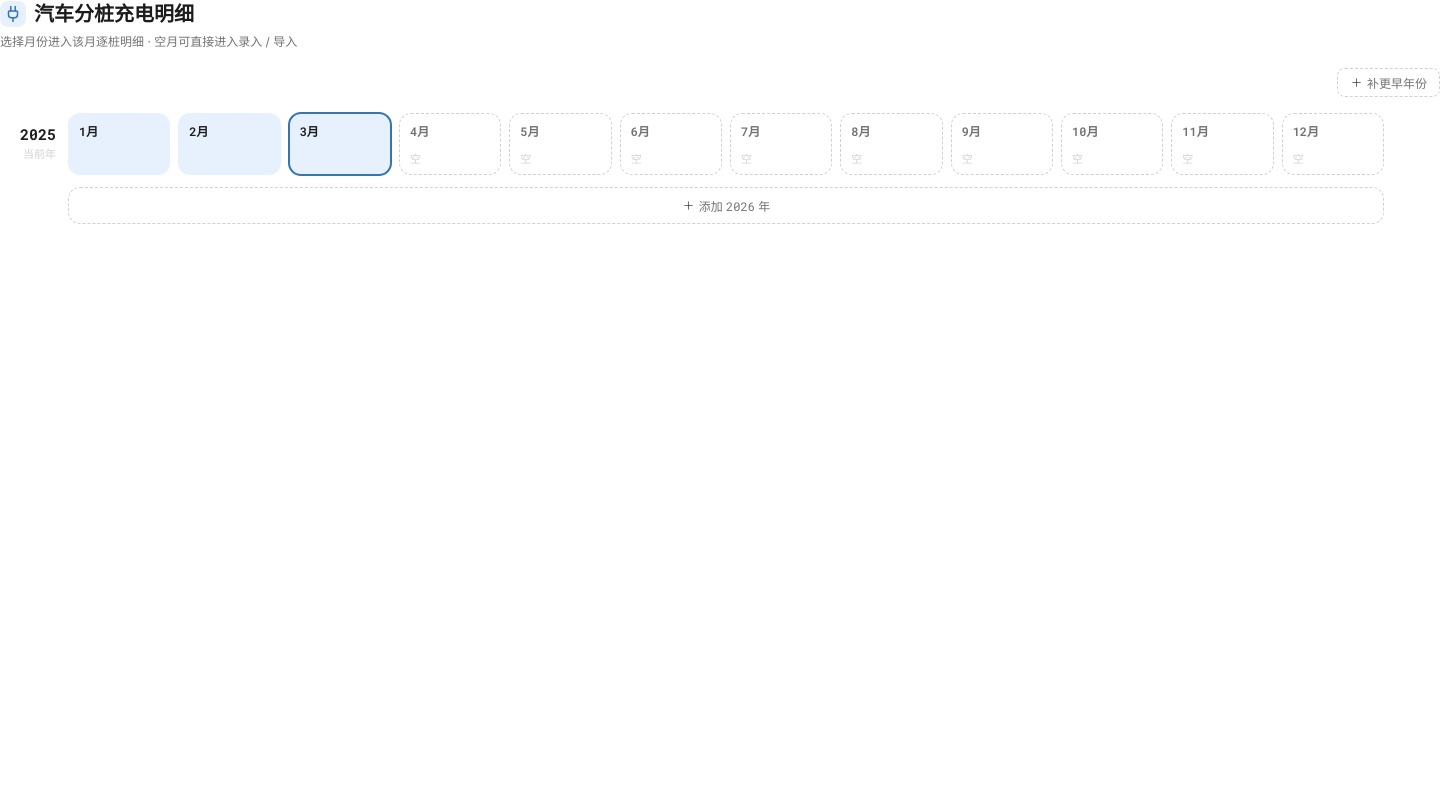
Test: 分桩充电明细 · 门不许在错误的时机敞开 › ❗切页签要收掉抽屉 —— 它是 Teleport to body,子树没了它不会没
The width and height of the screenshot is (1440, 810).
Click the button with class "bmm-card" showing "3月" at (340, 144), box x1=289 y1=113 x2=391 y2=175
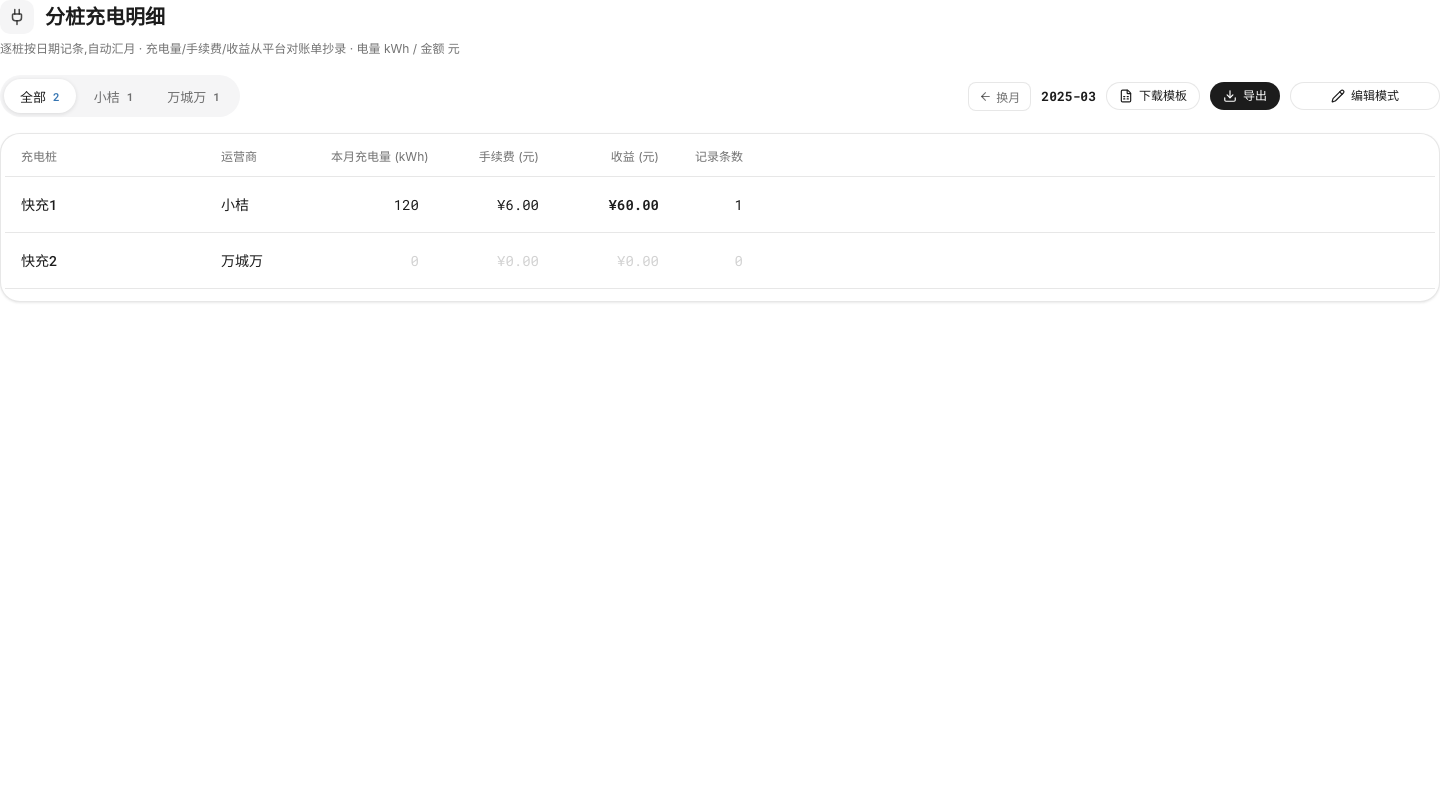
Click the row "快充1 小桔 120 ¥6.00 ¥60.00 1" at (720, 204), box x1=5 y1=176 x2=1435 y2=232
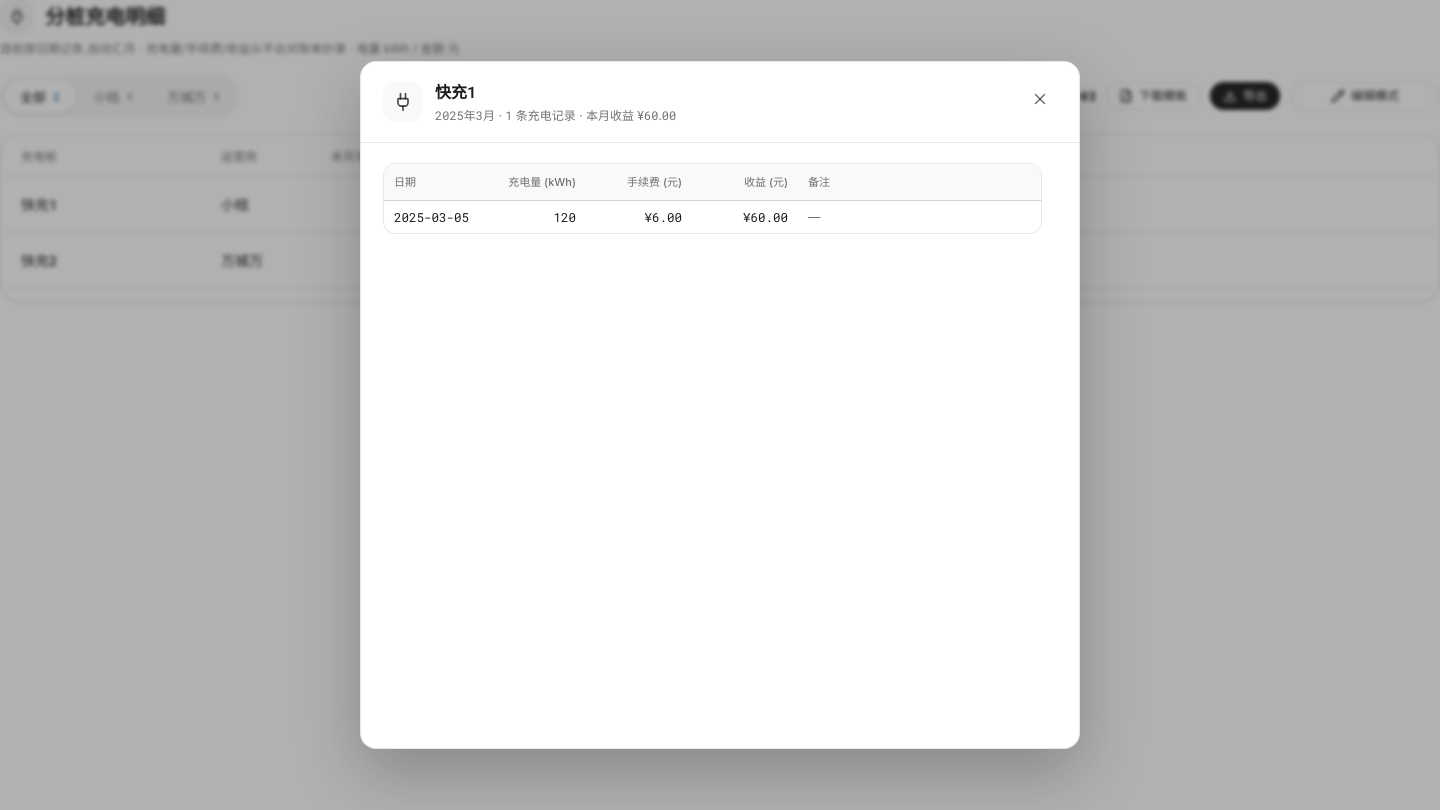
Check: the element with class "fp-dwr-backdrop" is shown
